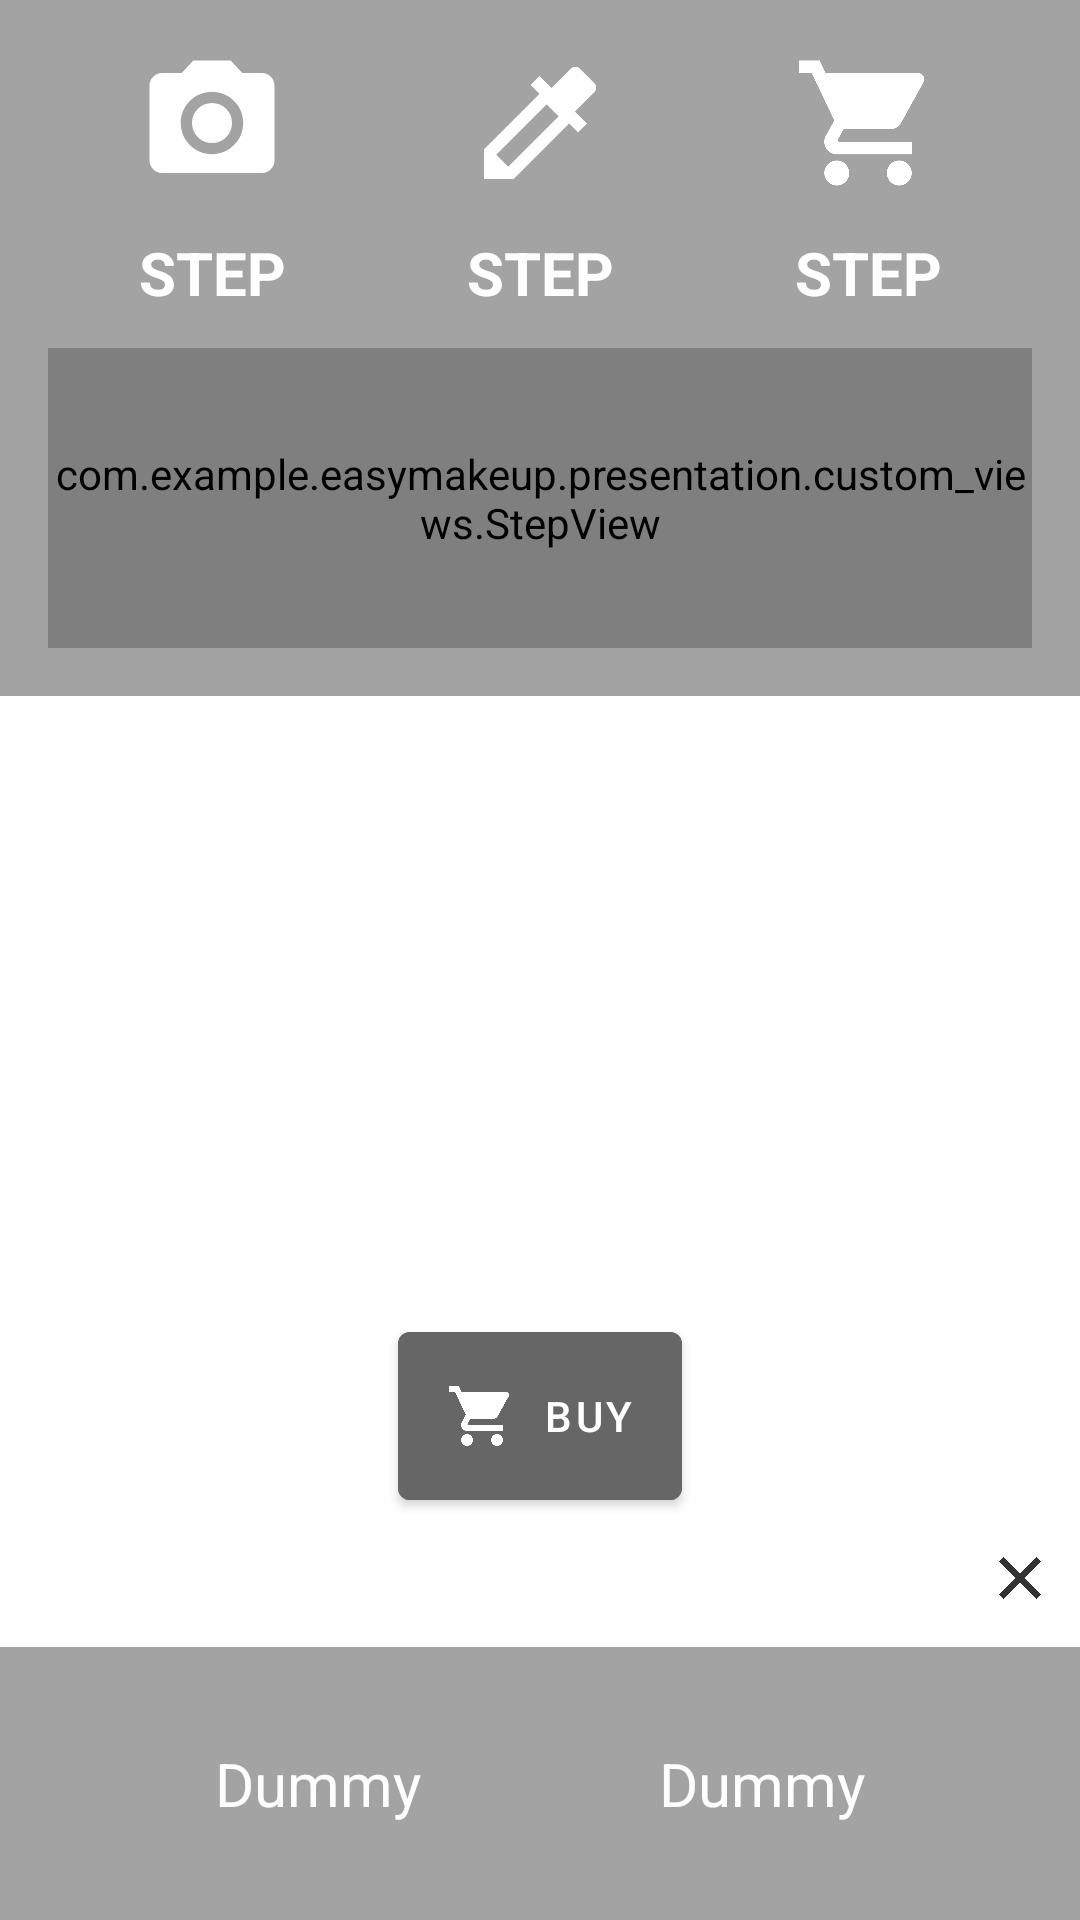

Screen size 1080 × 1920. Icon name, then its center in pixels as (x,y):
camera: (212,116)
cart: (861,123)
close: (1020,1578)
picker: (540,123)
